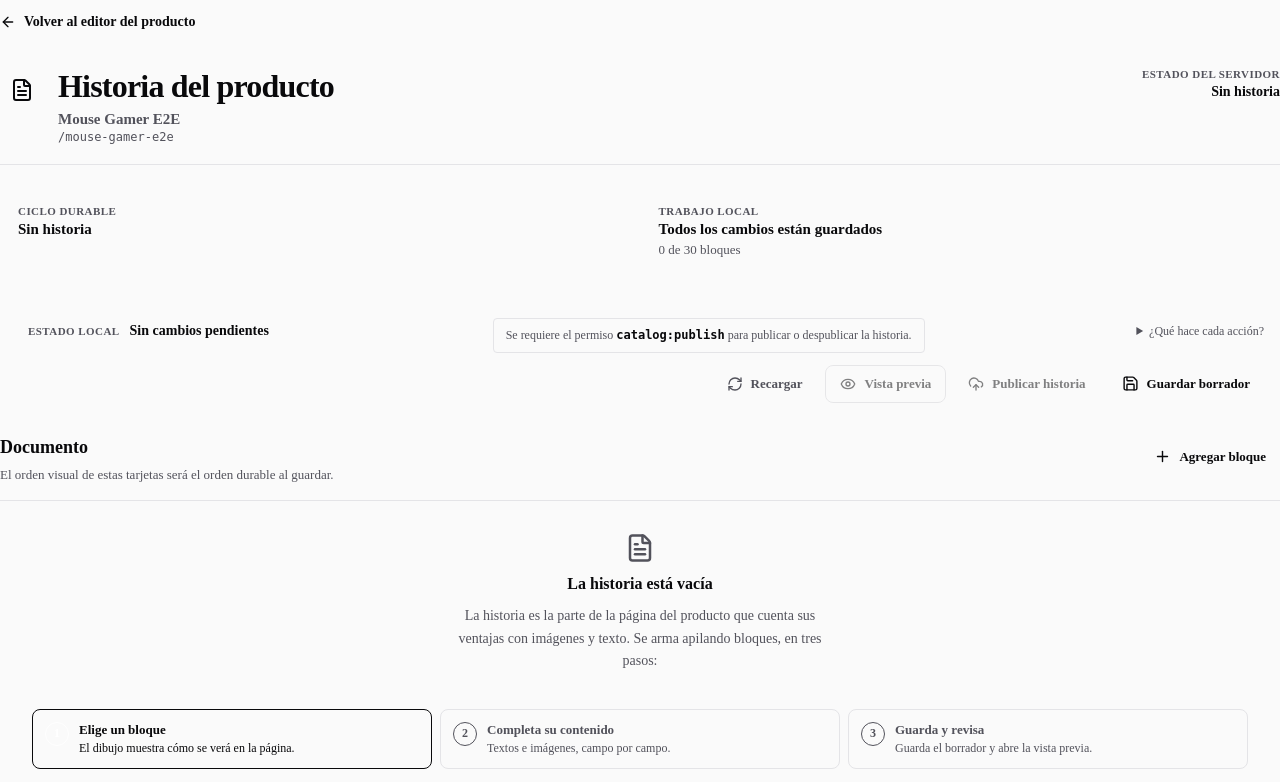
GP-026 CHK2 Story Builder component › adds an incomplete shell, marks dirty, keeps save operable, and focuses the new card
Click the button "Agregar bloque" at (1210, 457), box x1=1140 y1=435 x2=1279 y2=479
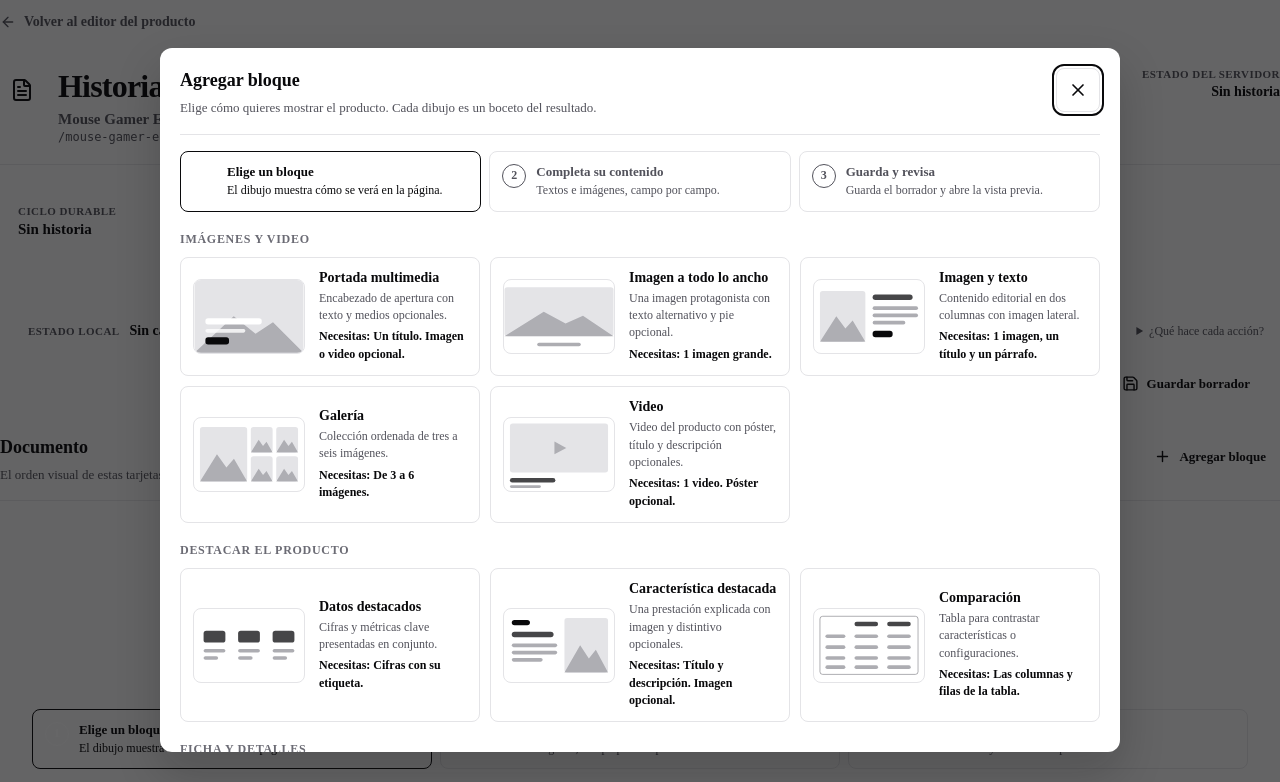
Click the button "Portada multimedia" at (330, 316), box x1=180 y1=257 x2=480 y2=376
(page scrolled)
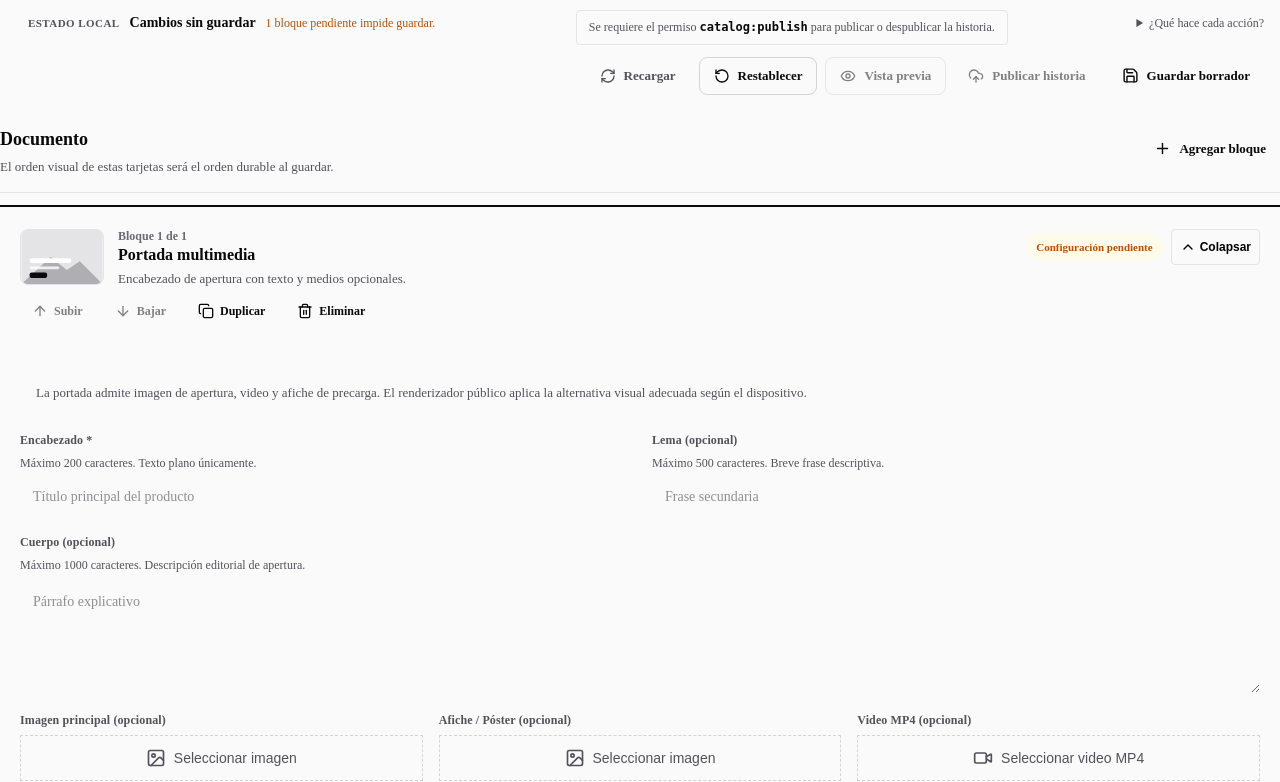
Expected: the button with test id "story-save-draft" is enabled, x1=1108 y1=57 x2=1264 y2=95
Expected: the text "Configuración pendiente" is shown, x1=1026 y1=233 x2=1163 y2=261
